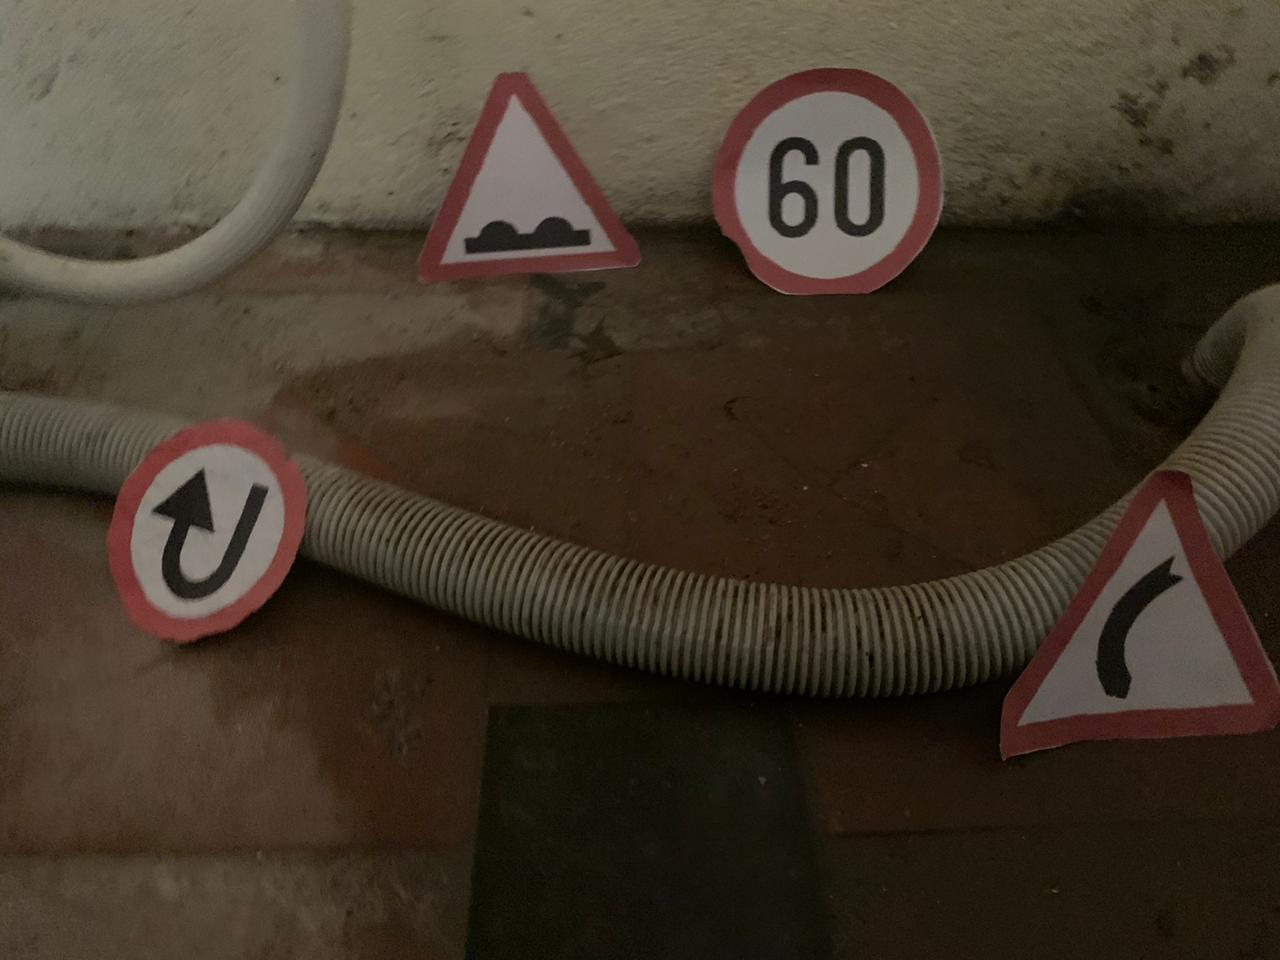LEFT CURVE: (986, 463, 1280, 785)
SPEED LIMIT (60 KM/H): (700, 42, 951, 303)
U-TURN: (94, 410, 319, 645)
UNEVEN ROAD: (411, 69, 653, 281)
